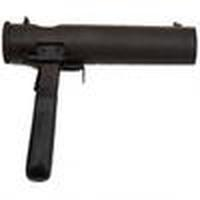gun: (1, 19, 200, 177)
